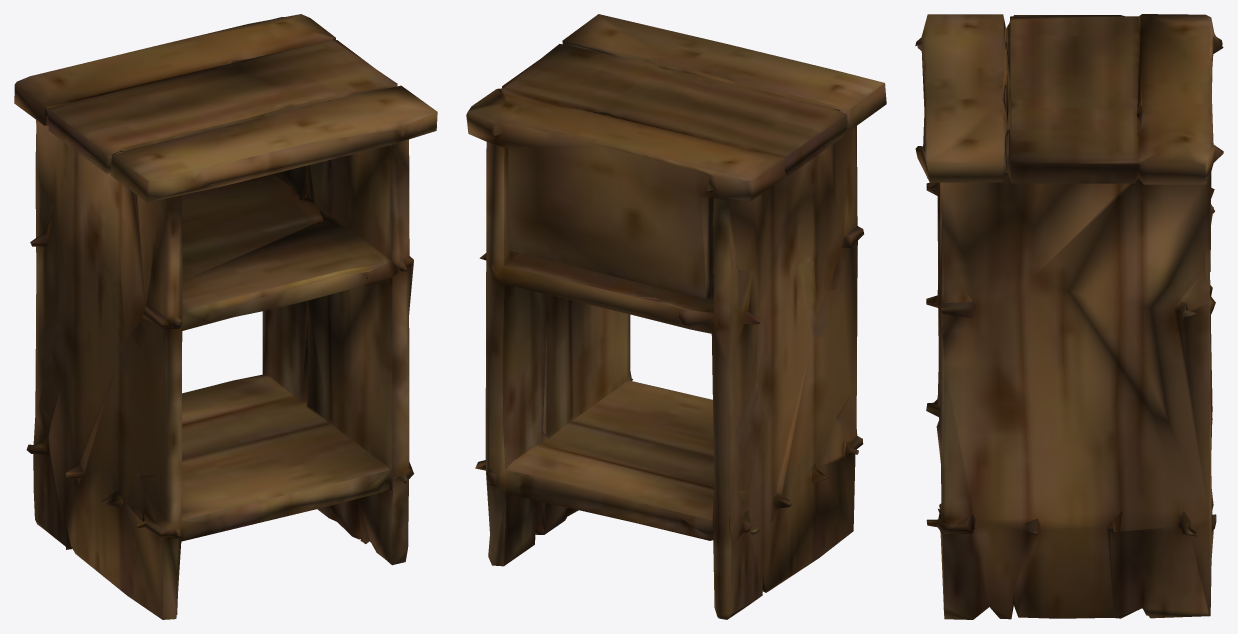
File: velador_rustico.movil.glb
3 renders of one model, left to right at view 1: azimuth 30°, elevation 25°; view 2: azimuth 150°, elevation 25°; view 3: azimuth 270°, elevation 25°, orthographic. The views are drawn at different scales.
Visible parts, largest first — view 1: geometry_0; view 2: geometry_0; view 3: geometry_0.
Part boxes in pixels (box(x1,y1,x2,y2)): geometry_0: box(14, 14, 437, 619); geometry_0: box(466, 14, 886, 619); geometry_0: box(915, 14, 1223, 619).
Bounding box in the file's own units: 0.3978 × 0.5982 × 0.35.
1 material, 1 textured.
